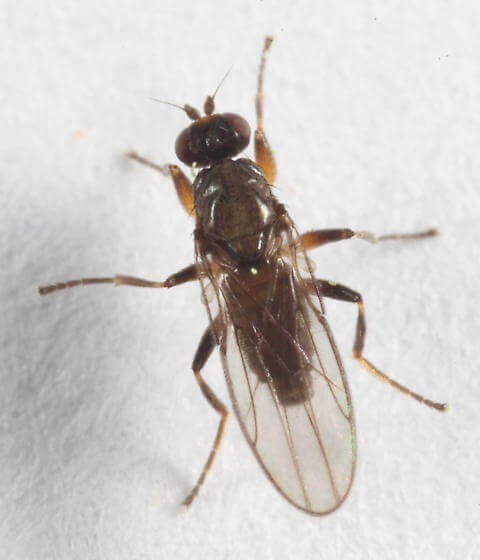phorid fly: (43, 31, 467, 534)
